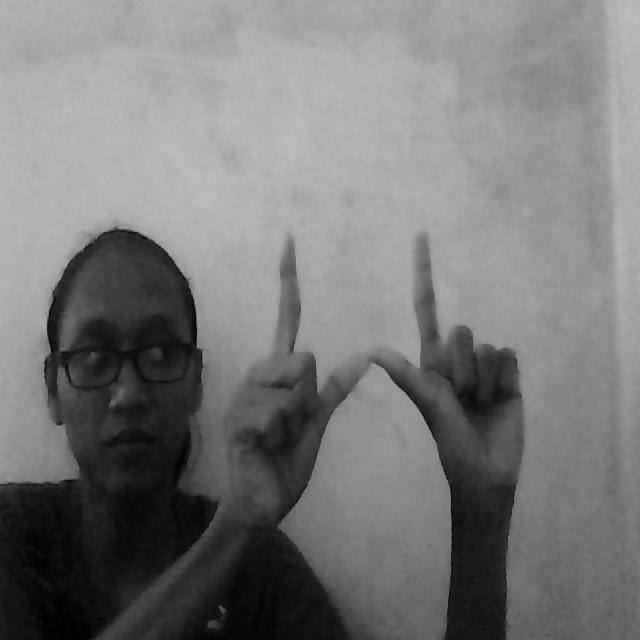W: (213, 217, 532, 516)
